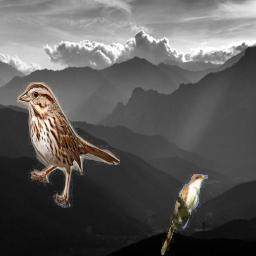Cuckoo: (161, 174, 208, 255)
Sparrow: (17, 82, 120, 208)
